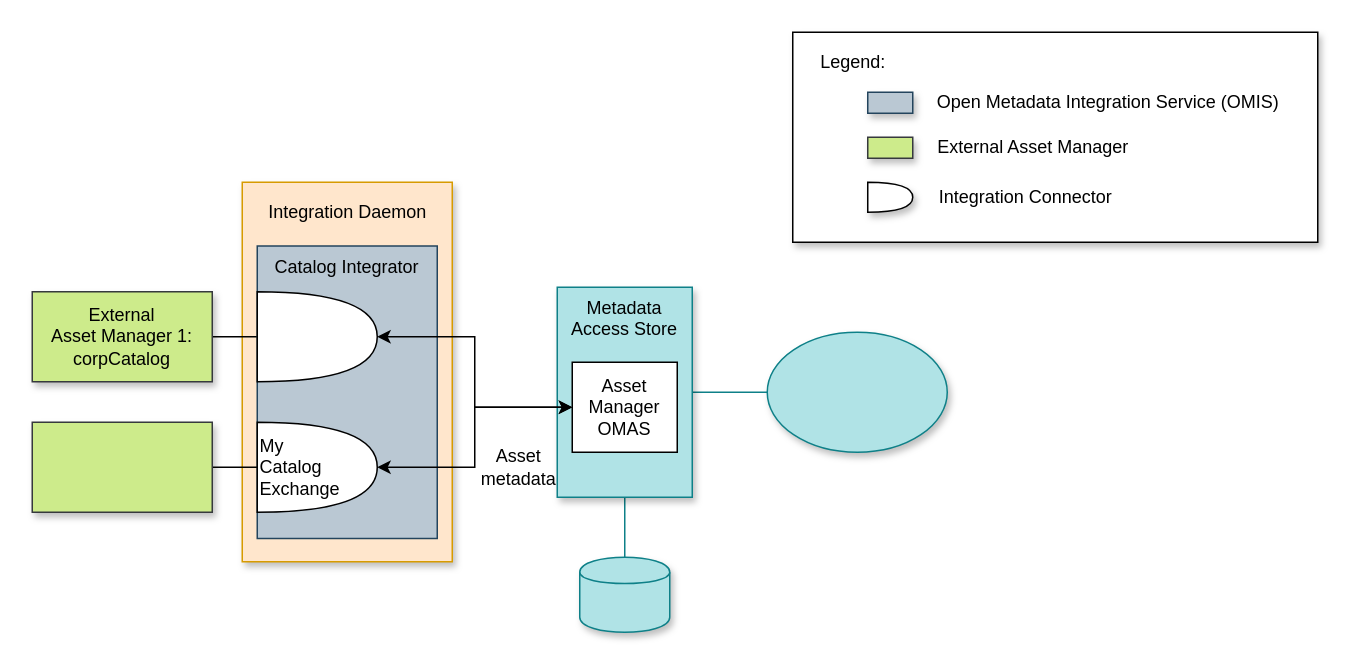
Image size: 1353x669. Some labels were removed from this diagram. Here are the shapes that lost their labels. From the top down, the centre of each, then its label:
At pixel 316 336: "Corp Catalog Exchange".
At pixel 858 394: "Cohort".
At pixel 123 469: "External Asset Manager 2: myCatalog".
